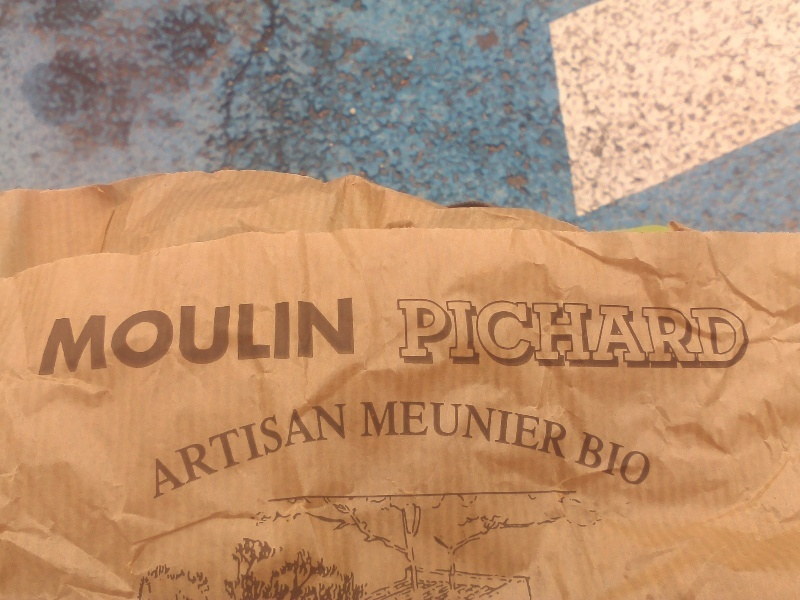text: (161, 390, 176, 501), (177, 390, 192, 501), (193, 390, 208, 501), (209, 390, 224, 501), (225, 390, 240, 501), (241, 390, 256, 501), (257, 390, 272, 501), (273, 390, 288, 501), (289, 390, 304, 501), (305, 390, 320, 501), (321, 390, 336, 501), (65, 295, 80, 376), (81, 295, 96, 376), (97, 295, 112, 376), (113, 295, 128, 376), (129, 295, 144, 376), (145, 295, 160, 376), (161, 295, 176, 376), (177, 295, 192, 376), (193, 295, 208, 376), (209, 295, 224, 376), (225, 295, 240, 376), (241, 295, 256, 376), (257, 295, 272, 376), (273, 295, 288, 376), (289, 295, 304, 376), (305, 295, 320, 376), (321, 295, 336, 376), (337, 295, 352, 376), (337, 390, 347, 501), (401, 299, 416, 369), (417, 299, 432, 369), (433, 299, 448, 369), (449, 299, 464, 369), (465, 299, 480, 369), (481, 299, 496, 369), (497, 299, 512, 369), (513, 299, 528, 369), (529, 299, 544, 369), (545, 299, 560, 369), (561, 299, 576, 369), (577, 299, 592, 369), (593, 299, 608, 369), (609, 299, 624, 369), (625, 299, 640, 369), (641, 299, 656, 369), (657, 299, 672, 369), (673, 299, 688, 369), (689, 299, 704, 369), (705, 299, 720, 369), (721, 299, 736, 369), (369, 397, 384, 458), (385, 397, 400, 458), (401, 397, 416, 458), (417, 397, 432, 458), (433, 397, 448, 458), (449, 397, 464, 458), (465, 397, 480, 458), (481, 397, 496, 458), (497, 397, 512, 458), (513, 397, 528, 458), (529, 397, 544, 458), (545, 397, 560, 458), (737, 299, 750, 369), (152, 390, 160, 501), (593, 431, 608, 489), (609, 431, 624, 489), (625, 431, 640, 489), (641, 431, 656, 489), (561, 397, 572, 458), (56, 295, 64, 376), (583, 431, 592, 489), (361, 397, 368, 458), (353, 295, 358, 376), (398, 299, 400, 369), (657, 431, 658, 489)
